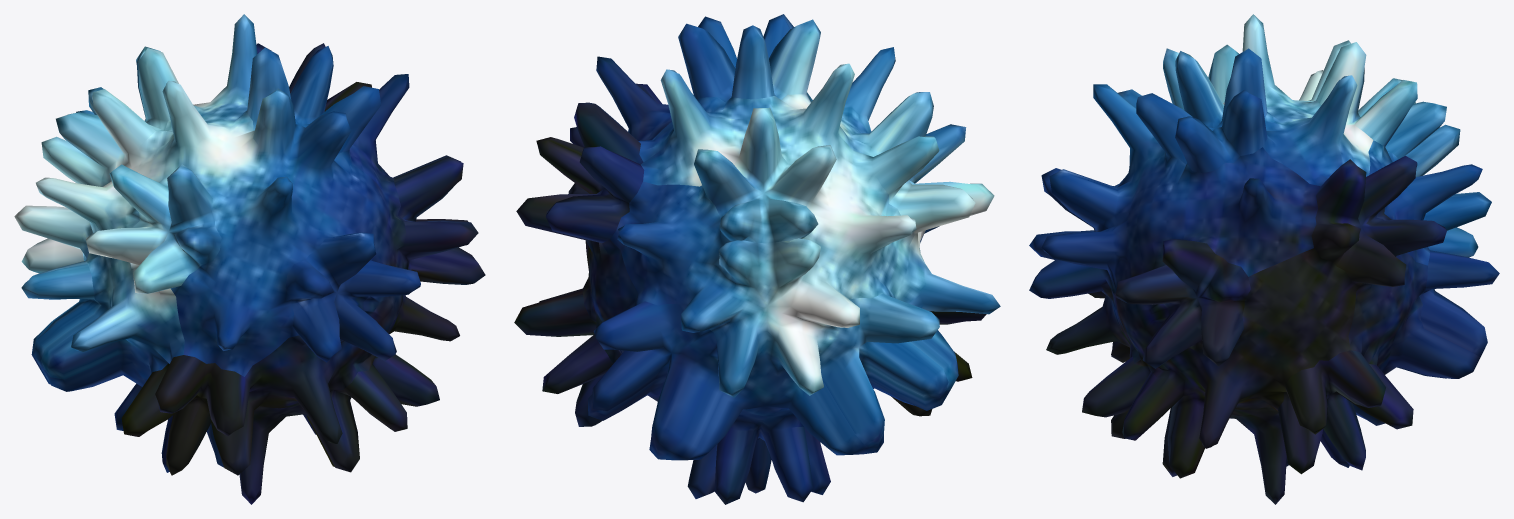
File: sharpsphere.obj
The picture shows the model from 3 angles, left to right: view 1: azimuth 30°, elevation 25°; view 2: azimuth 150°, elevation 25°; view 3: azimuth 270°, elevation 25°; orthographic projection. The views are drawn at different scales.
Visible parts, largest first — view 1: pSolid1; view 2: pSolid1; view 3: pSolid1.
Boxes of the visible parts, box(x1,y1,x2,y2) form: pSolid1: box(14, 14, 485, 504); pSolid1: box(514, 14, 1000, 504); pSolid1: box(1029, 14, 1499, 504).
Size of the model in its own units: 11.87 by 11.99 by 11.86.
1 material, 1 textured.
